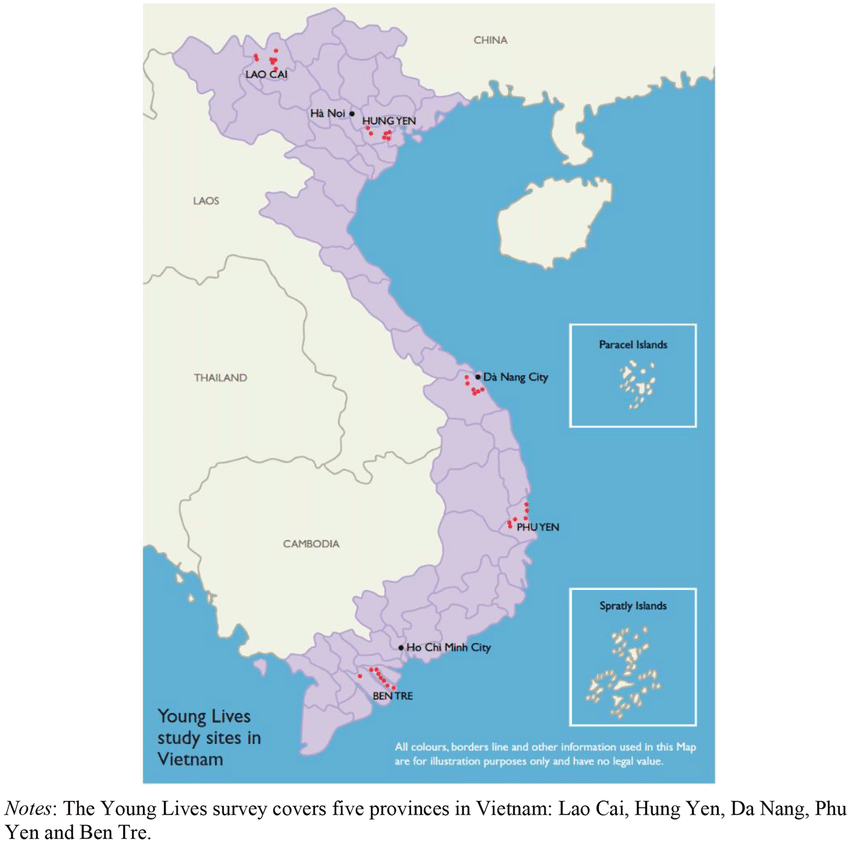Island: (581, 594, 690, 718), (590, 328, 682, 420)
